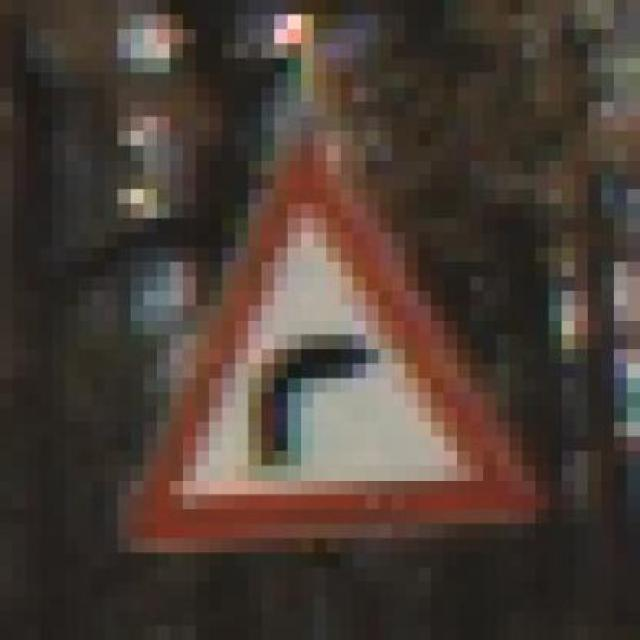Dangerous Rright Curve Ahead: (66, 131, 548, 552)
